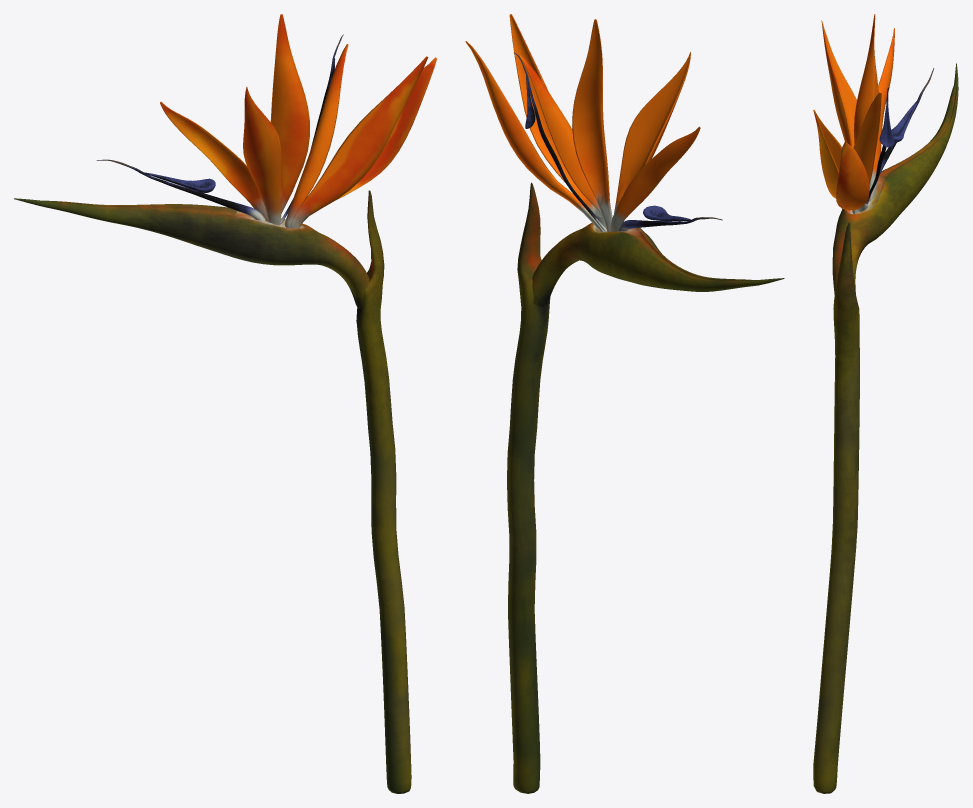
The model's file is bug32867_test.glb.
3 renders of one model, left to right at view 1: azimuth 30°, elevation 25°; view 2: azimuth 150°, elevation 25°; view 3: azimuth 270°, elevation 25°, orthographic. The views are drawn at different scales.
Parts seen in each view (by area): view 1: ave_del_paraiso.1; view 2: ave_del_paraiso.1; view 3: ave_del_paraiso.1.
Part boxes in pixels (x1=…): ave_del_paraiso.1: x1=14, y1=14, x2=436, y2=793; ave_del_paraiso.1: x1=465, y1=14, x2=784, y2=793; ave_del_paraiso.1: x1=813, y1=14, x2=958, y2=793.
Size of the model in its own units: 0.158 by 0.3234 by 0.0579.
Materials: 1 (1 with a texture image).
